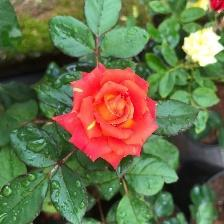rose: (53, 62, 161, 173)
